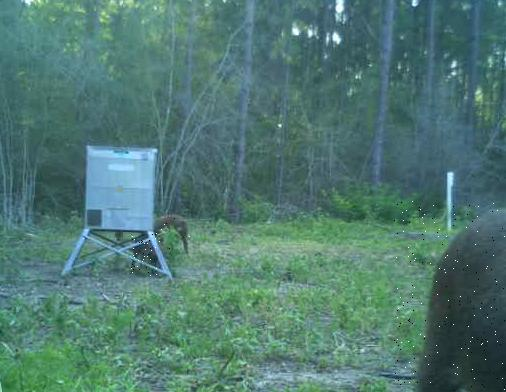Hog: (394, 201, 506, 392), (157, 210, 196, 252), (131, 233, 157, 276)
